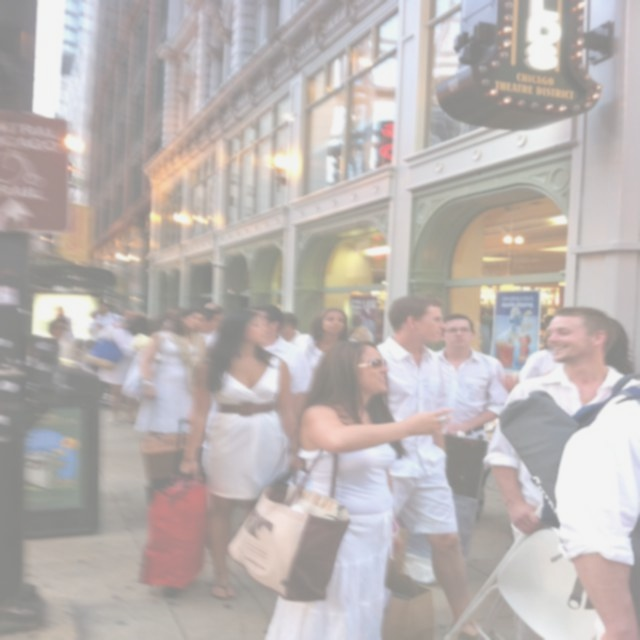pessoa: (262, 338, 460, 639), (372, 294, 494, 640), (176, 306, 307, 602), (484, 304, 637, 536), (559, 364, 639, 639), (432, 312, 510, 520), (134, 304, 215, 438), (80, 310, 153, 424), (248, 301, 312, 422), (294, 305, 360, 374), (604, 316, 639, 378), (506, 344, 552, 384), (348, 302, 386, 344), (193, 306, 223, 348), (278, 310, 310, 348), (506, 304, 536, 335), (95, 300, 127, 328), (52, 305, 75, 339), (151, 310, 173, 333), (536, 310, 554, 328), (120, 307, 148, 318), (202, 301, 225, 314), (88, 310, 104, 321)
